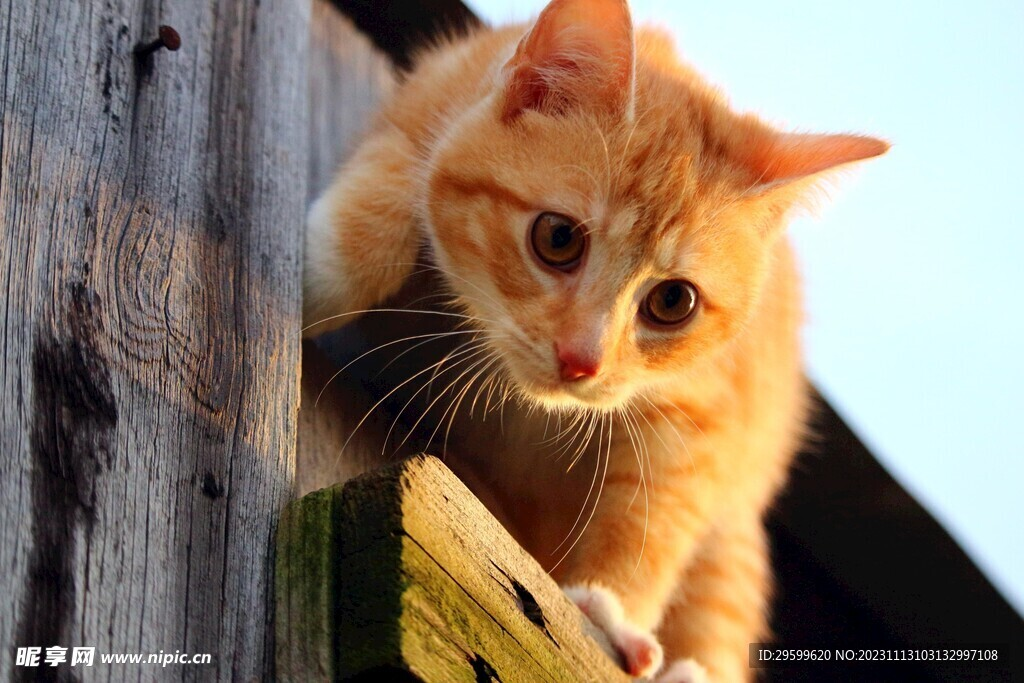橘猫: (305, 3, 886, 397)
